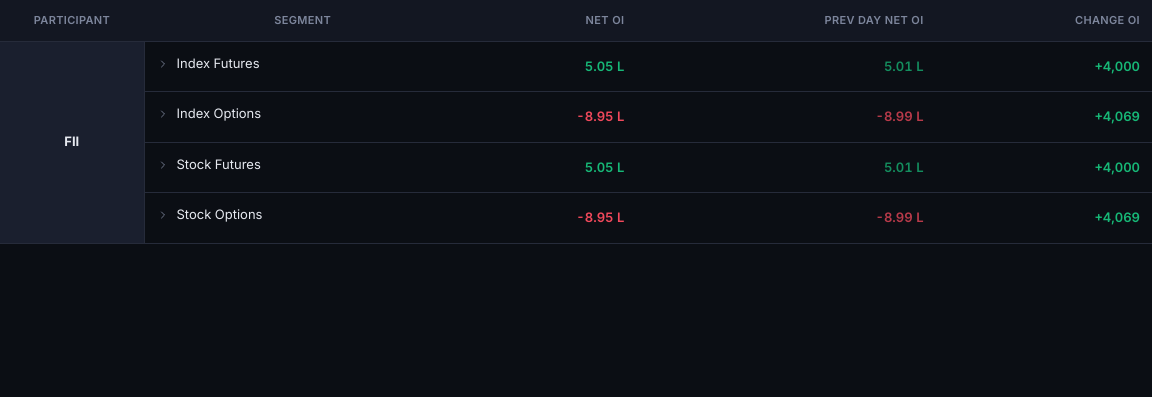
Test: the leg breakdown › collapses again on a second click
Click the button "Index Futures". click: point(208, 64)
box: [156,54,260,74]
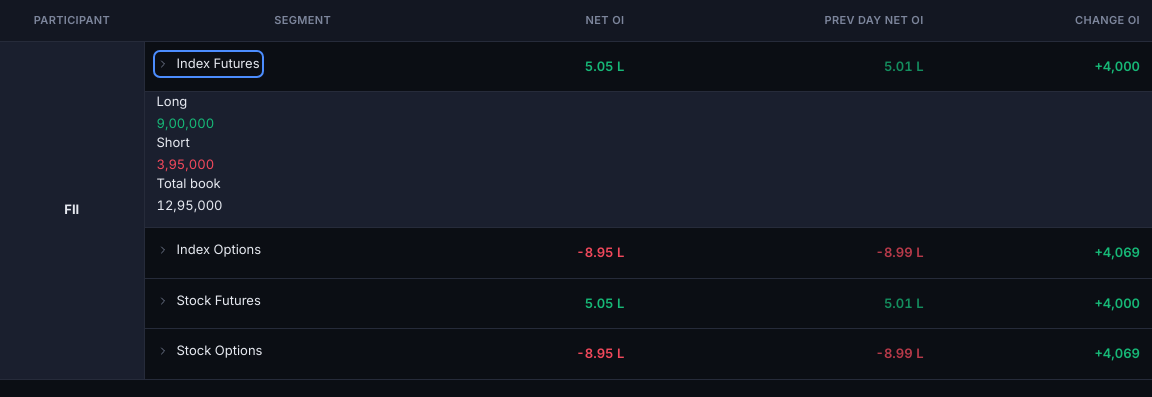
Click the button "Index Futures". click: point(208, 64)
box: [156,54,260,74]
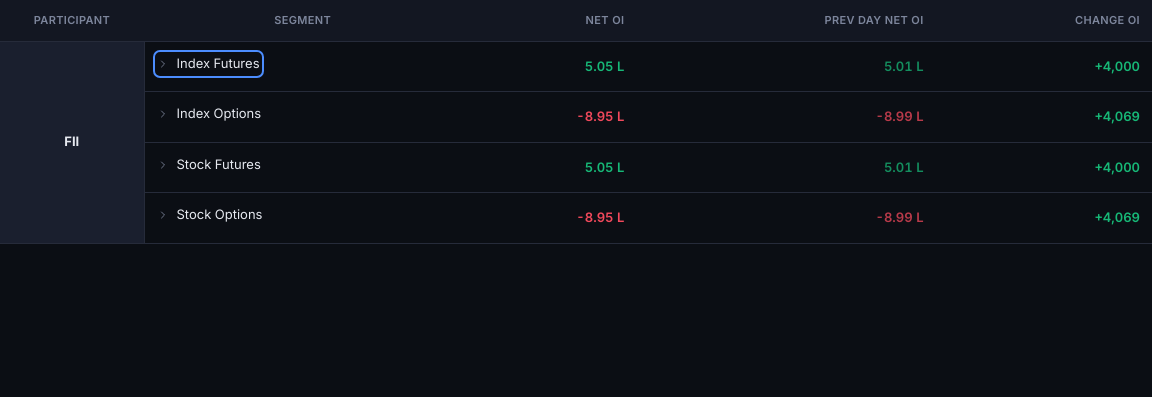
Expected: the text "Total book" is gone
